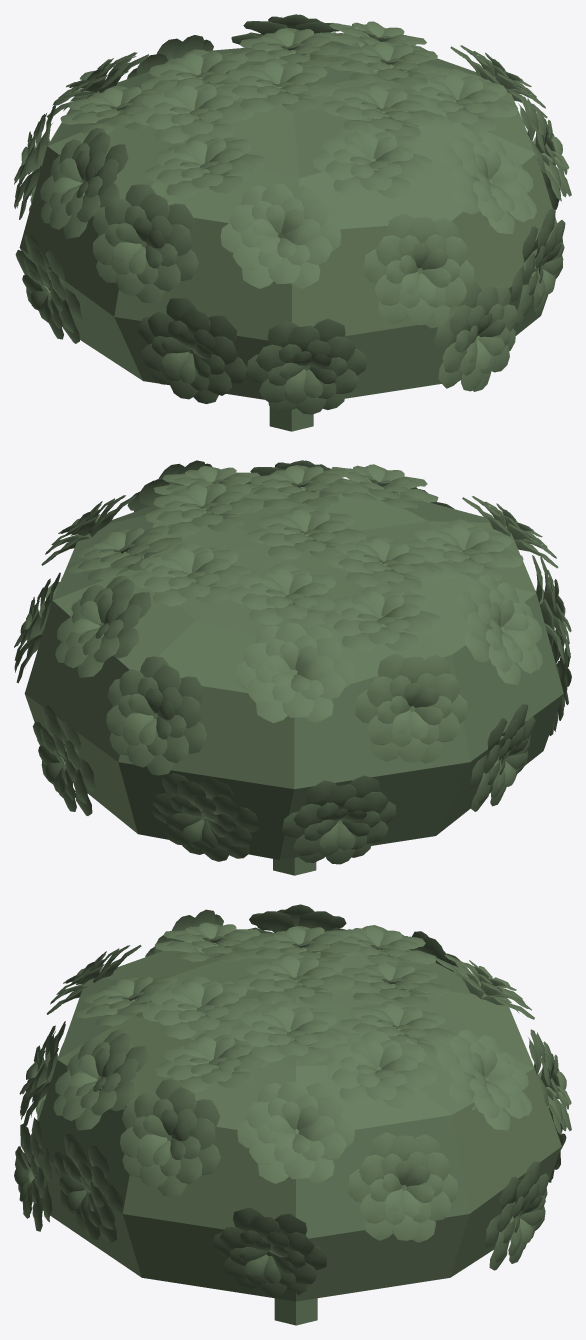
Rendered from flower1_bushOrange.fbx.
3 views of the same model, one above another, from view 1: azimuth 30°, elevation 25°; view 2: azimuth 150°, elevation 25°; view 3: azimuth 270°, elevation 25° (orthographic). The views are drawn at different scales.
Visible parts, largest first — view 1: flower1_bush; view 2: flower1_bush; view 3: flower1_bush.
Boxes of the visible parts, x1=… form: flower1_bush: x1=14, y1=14, x2=571, y2=431; flower1_bush: x1=14, y1=460, x2=571, y2=875; flower1_bush: x1=14, y1=904, x2=571, y2=1325.
Bounding box in the file's own units: 90.01 × 61.04 × 90.04.
